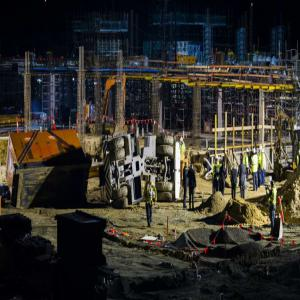none: (149, 175, 153, 184), (272, 181, 276, 189), (185, 162, 189, 169), (190, 164, 194, 171), (216, 160, 220, 167), (222, 161, 226, 168), (234, 164, 237, 170), (241, 159, 244, 165)
white: (246, 148, 250, 156), (253, 148, 257, 156), (262, 150, 265, 157), (181, 138, 184, 144)
